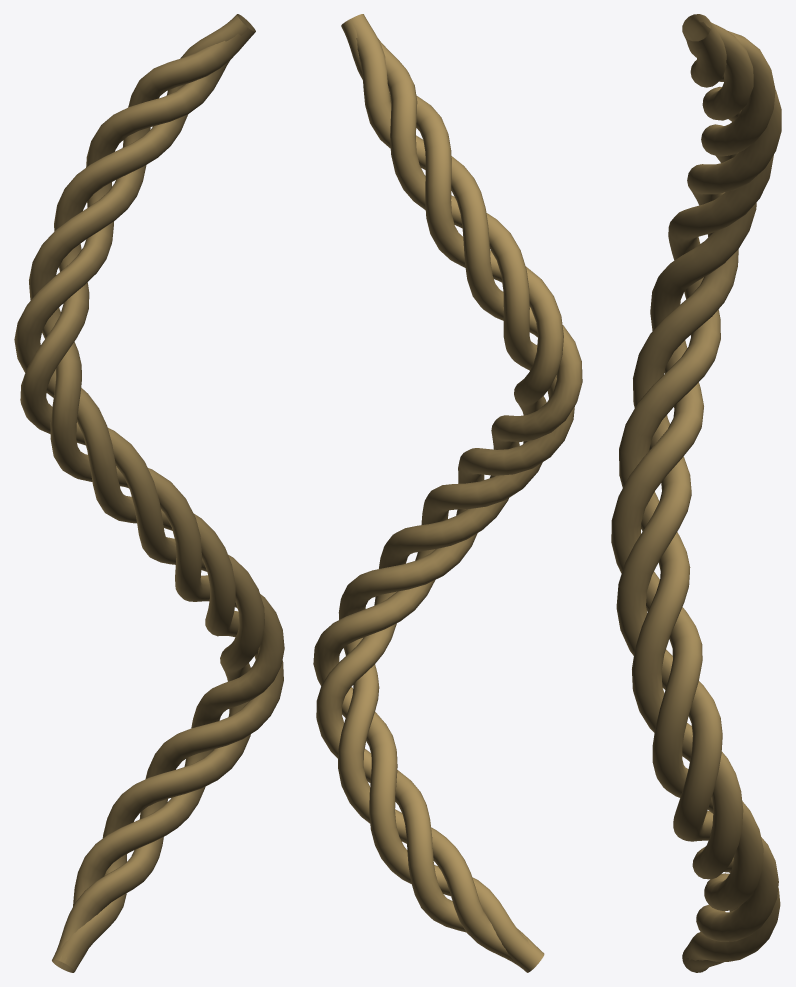
File: String.glb
The picture shows the model from 3 angles, left to right: view 1: azimuth 30°, elevation 25°; view 2: azimuth 150°, elevation 25°; view 3: azimuth 270°, elevation 25°; orthographic projection. The views are drawn at different scales.
Parts seen in each view (by area): view 1: String; view 2: String; view 3: String.
Part boxes in pixels (x1,y1,x2,y2): String: [14, 14, 284, 972]; String: [313, 14, 582, 972]; String: [611, 14, 781, 972].
Size of the model in its own units: 0.3726 by 1.24 by 0.1822.
